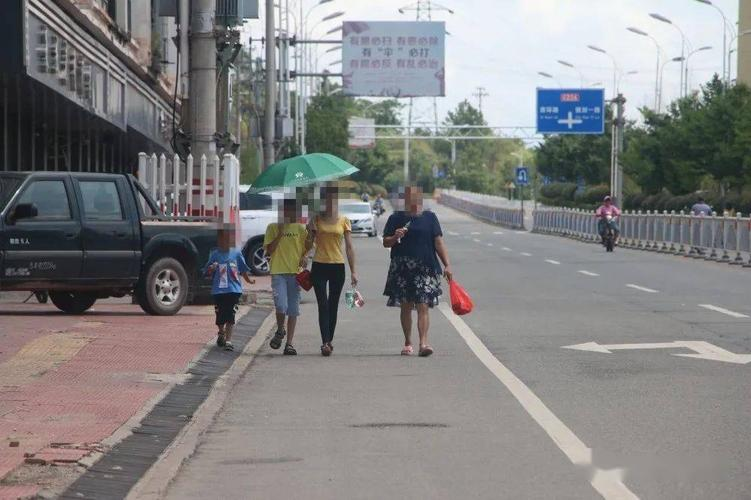car: (338, 201, 377, 237)
motorcycle: (598, 219, 619, 253)
person: (379, 190, 453, 357), (302, 182, 360, 354), (262, 218, 313, 355), (203, 235, 255, 350), (593, 196, 621, 251), (691, 198, 713, 217), (370, 194, 387, 218)
sign: (536, 85, 604, 133), (513, 166, 529, 184)
truck: (0, 171, 267, 315)
